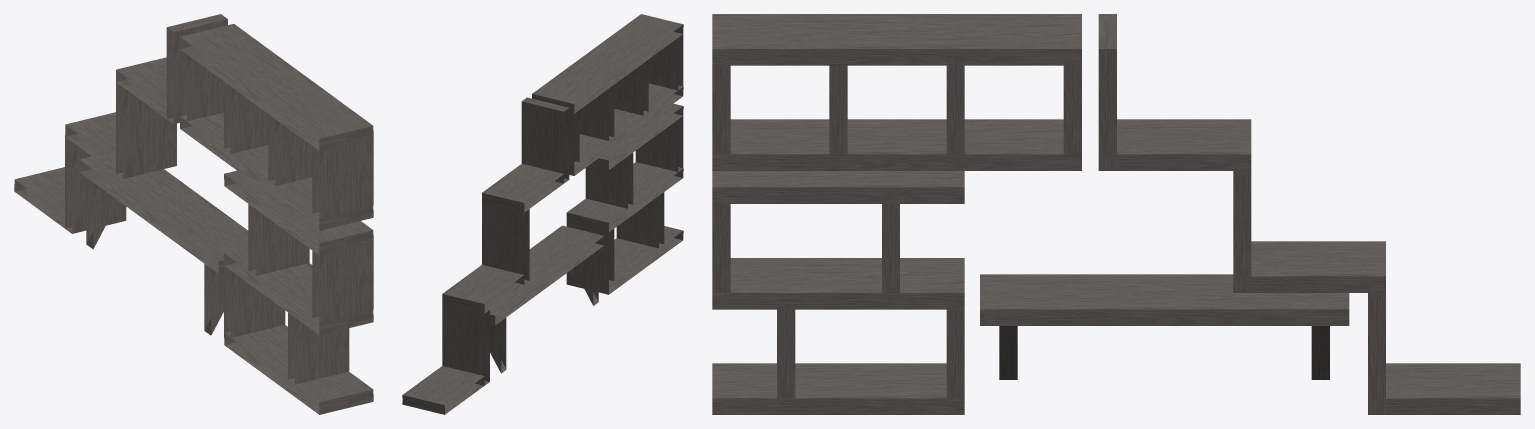
File: Shelf.fbx
3 views of the same model, side by side, from view 1: azimuth 30°, elevation 25°; view 2: azimuth 150°, elevation 25°; view 3: azimuth 270°, elevation 25° (orthographic). The views are drawn at different scales.
Parts seen in each view (by area): view 1: shelf2, shelf1, shelf3, shelf4; view 2: shelf3, shelf2, shelf1, shelf4; view 3: shelf2, shelf1, shelf3, shelf4.
Part boxes in pixels (x1,y1,x2,y2): shelf2: [180, 24, 373, 230]; shelf1: [224, 170, 373, 414]; shelf3: [14, 14, 227, 233]; shelf4: [79, 156, 248, 335]; shelf3: [402, 97, 569, 414]; shelf2: [532, 14, 683, 175]; shelf1: [566, 103, 683, 294]; shelf4: [490, 225, 604, 373]; shelf2: [712, 14, 1081, 170]; shelf1: [712, 171, 964, 414]; shelf3: [1098, 14, 1520, 414]; shelf4: [980, 274, 1349, 379].
Size of the model in its own units: 0.1285 by 0.6238 by 1.25.
